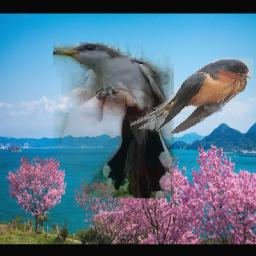Cuckoo: (52, 43, 173, 199)
Swallow: (129, 58, 252, 133)
